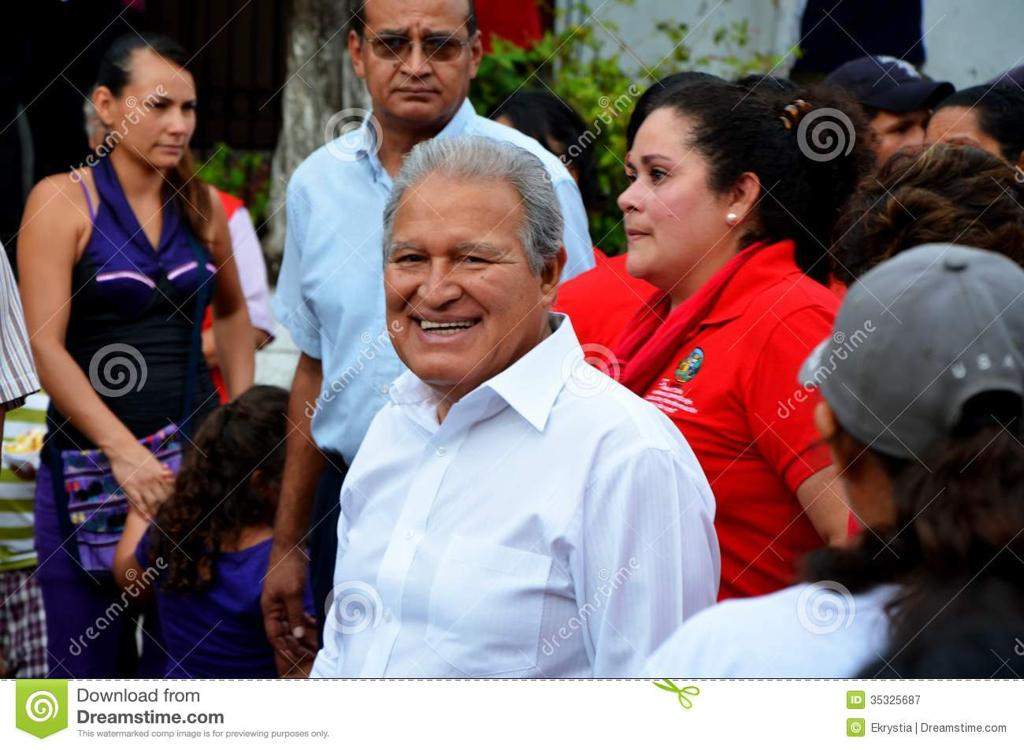face: (386, 174, 542, 378), (622, 102, 726, 272), (362, 6, 470, 130), (122, 50, 198, 170), (866, 94, 926, 184)
